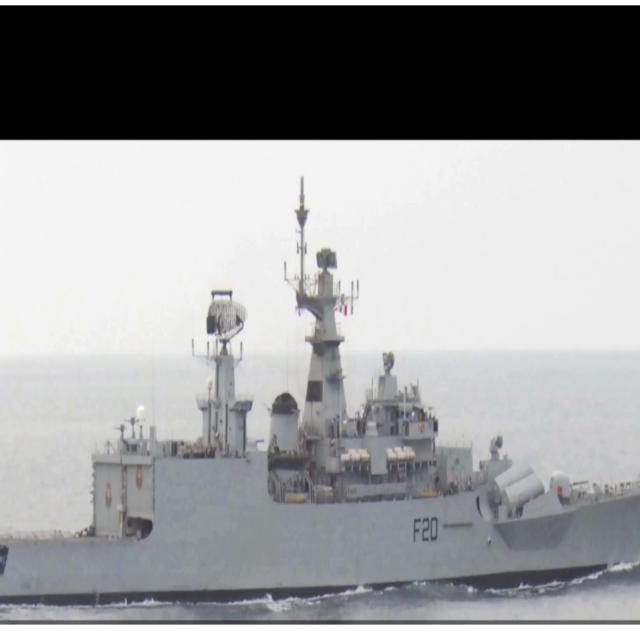OCR: (406, 510, 442, 551)
